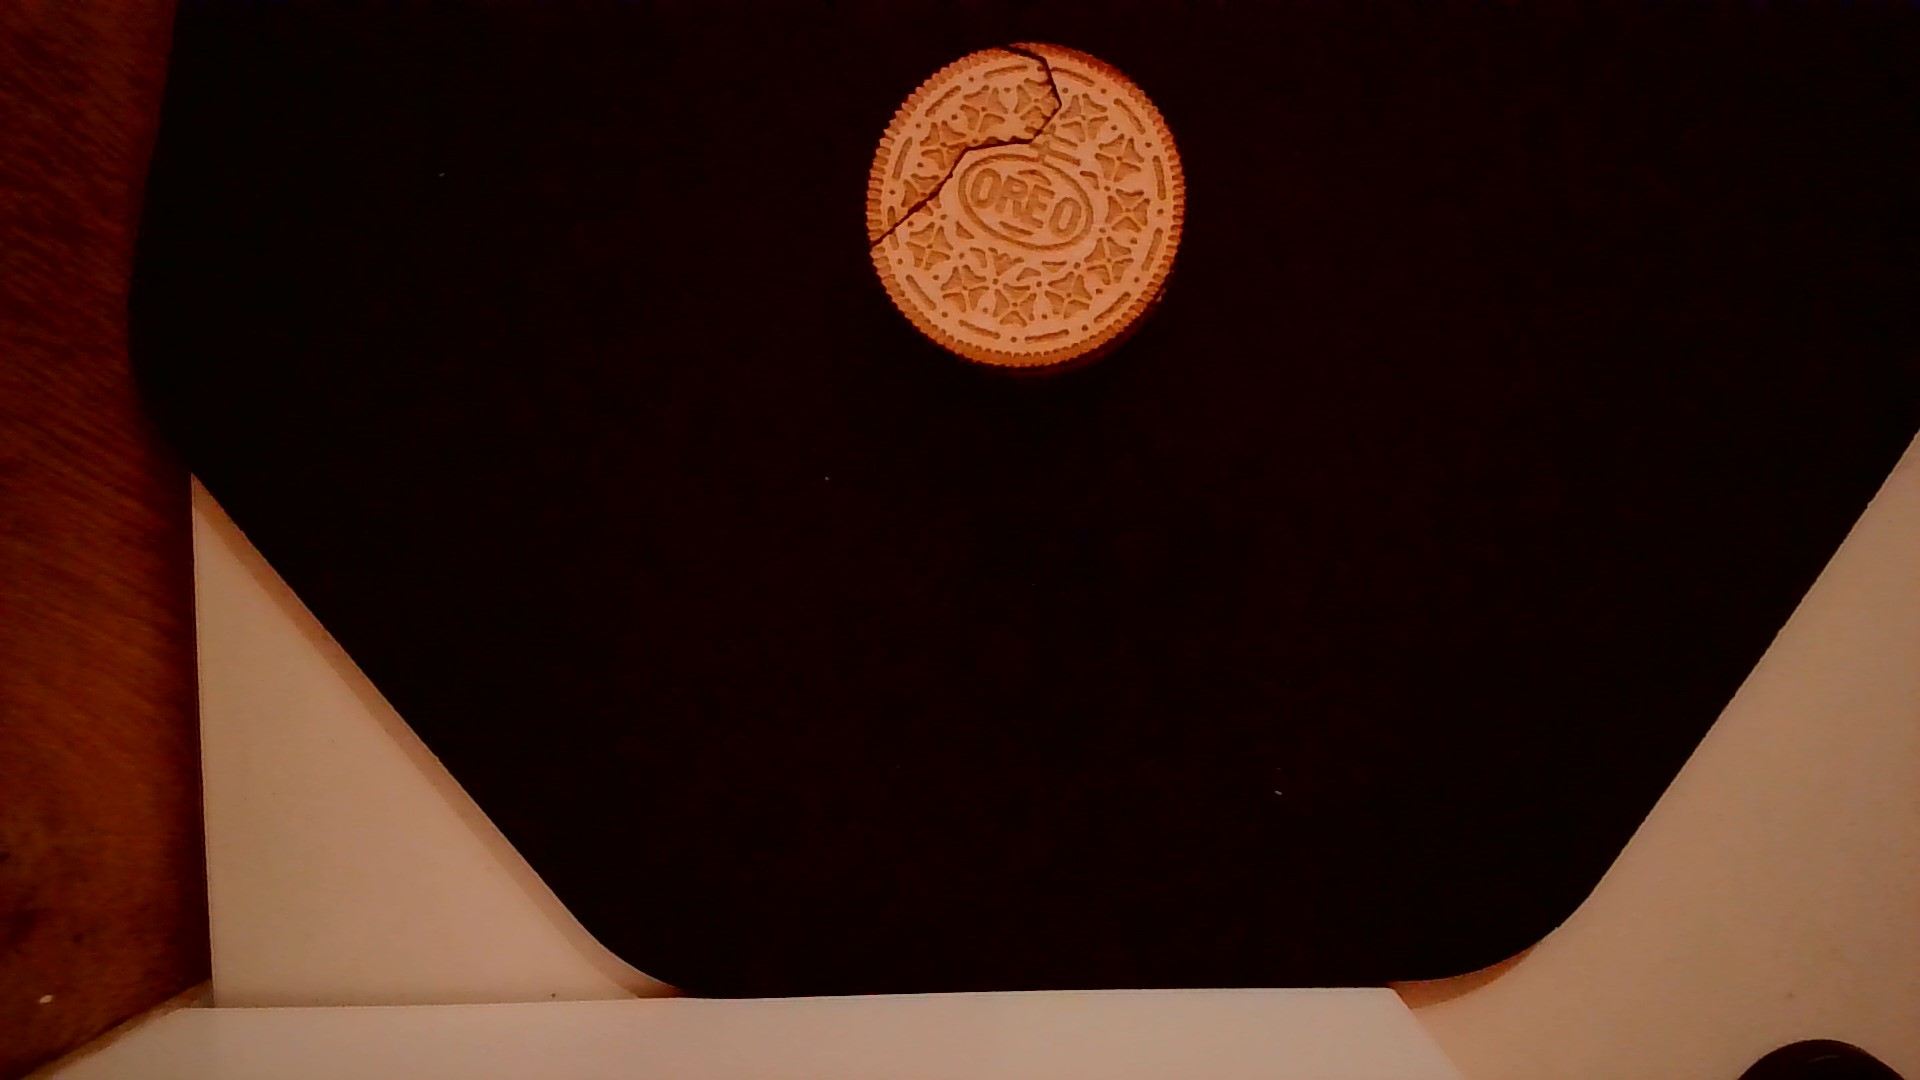Fissure: (860, 34, 1065, 258)
Oréo: (858, 34, 1191, 380)
